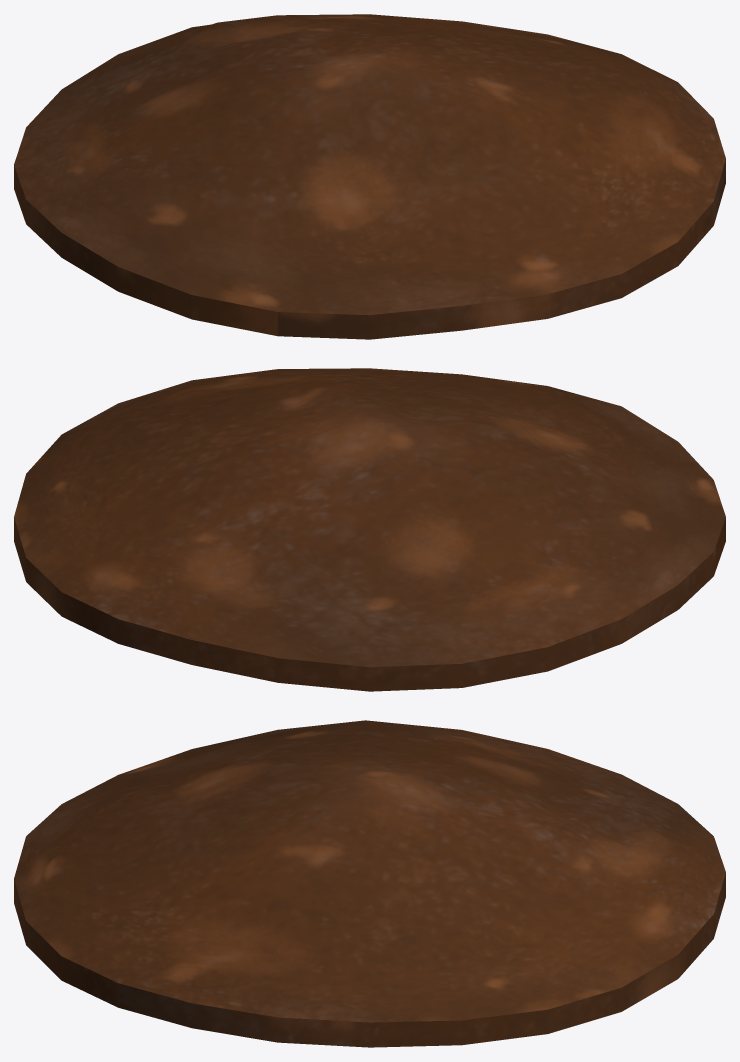
The model's file is Soil_Seed_Mesh.fbx.
3 renders of one model, top to bottom at view 1: azimuth 30°, elevation 25°; view 2: azimuth 150°, elevation 25°; view 3: azimuth 270°, elevation 25°, orthographic.
Visible parts, largest first — view 1: Solo; view 2: Solo; view 3: Solo.
Part boxes in pixels (x1=…): Solo: x1=14, y1=14, x2=725, y2=339; Solo: x1=14, y1=368, x2=725, y2=691; Solo: x1=14, y1=720, x2=725, y2=1047.
Size of the model in its own units: 195 by 37.44 by 195.
